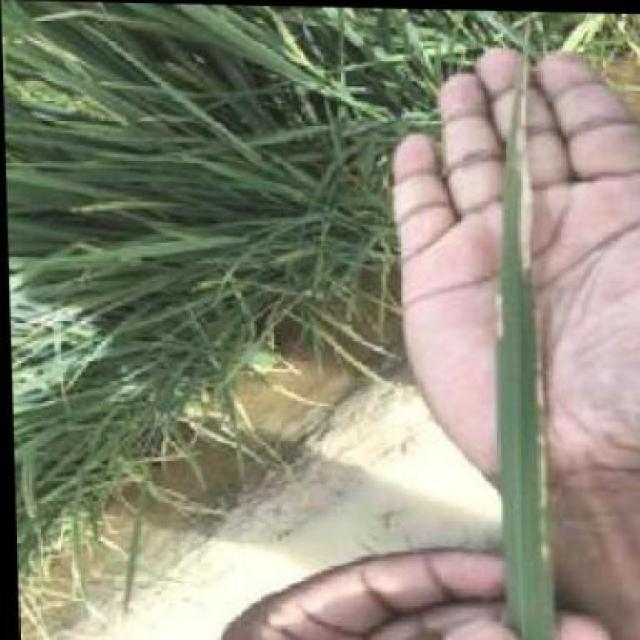Brown_Spot: (503, 83, 568, 640)
